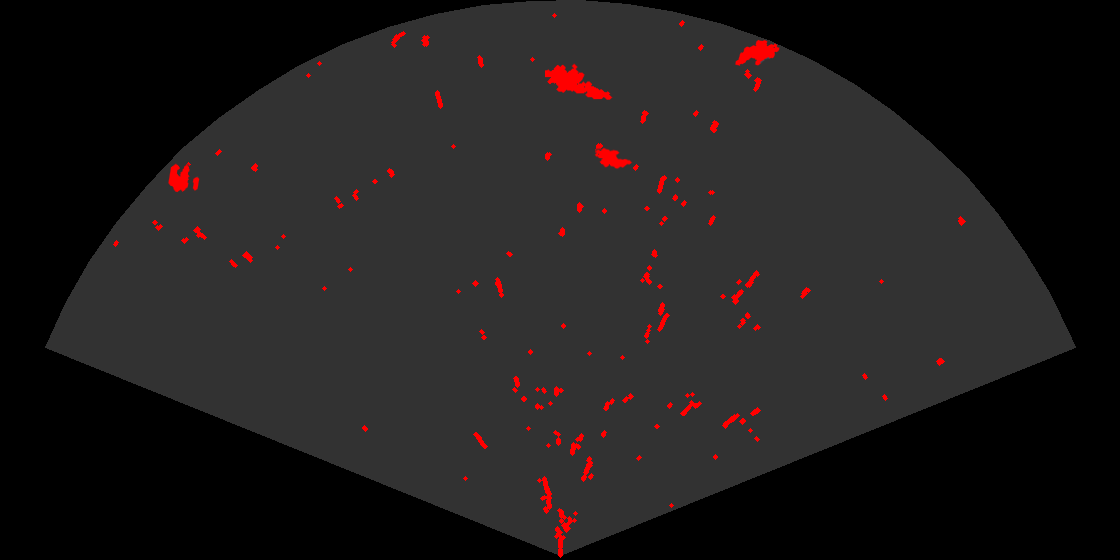AUV: (734, 38, 781, 67), (593, 146, 634, 171)
ball: (167, 162, 201, 194)
frogman: (545, 62, 613, 101)
